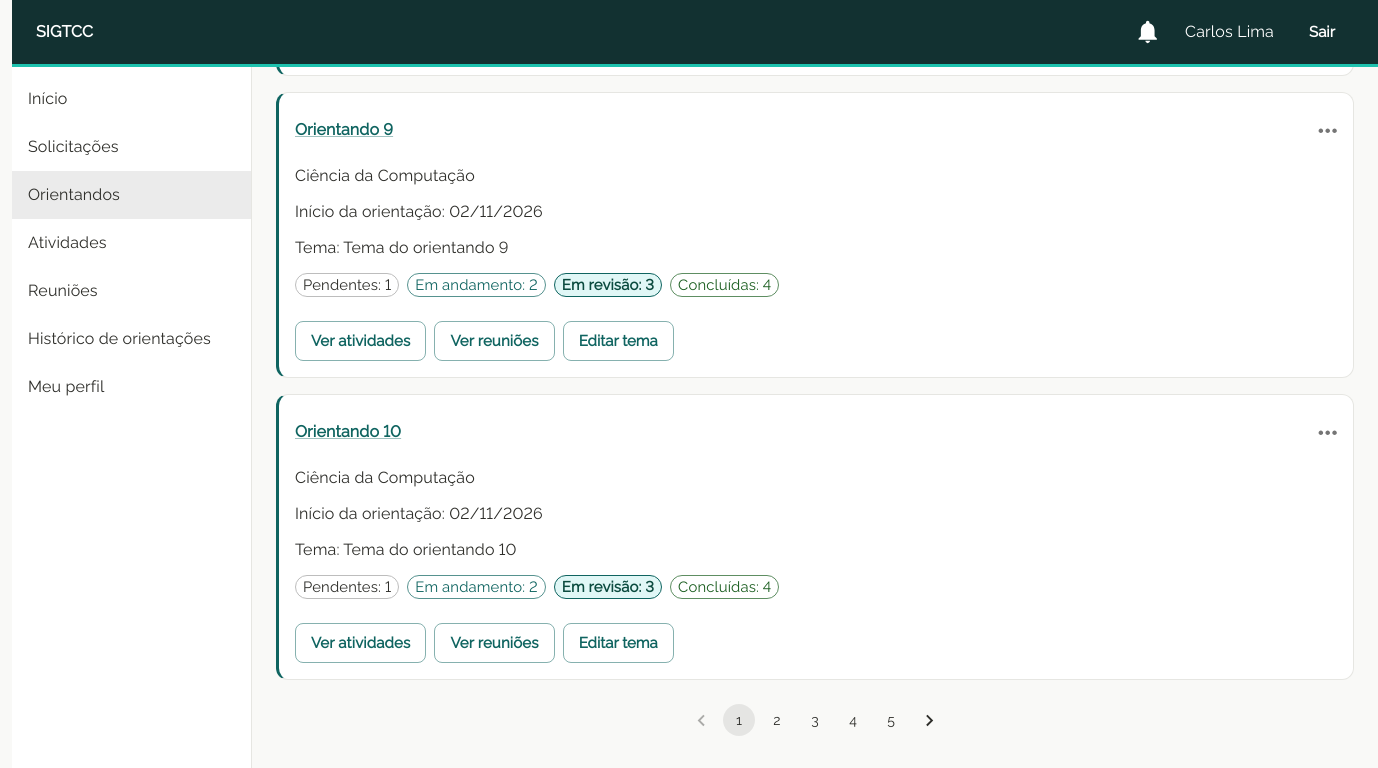
Test: TeacherAdviseesPage: paginação com a página na URL › muda de página, guarda a página na URL e pede o deslocamento certo
The image size is (1378, 768).
(page scrolled)
Click the button "5".
click(891, 720)  # box [875,704,907,736]
(page scrolled)
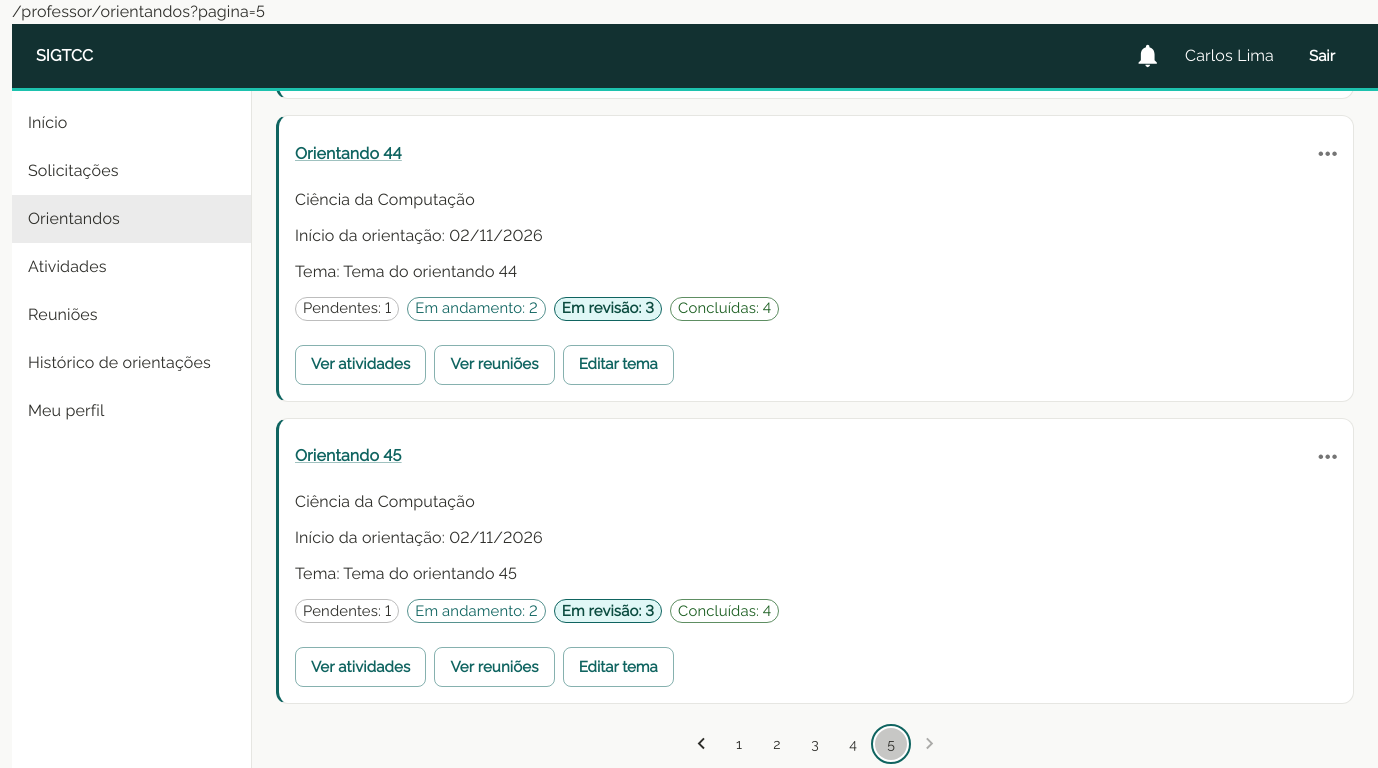
Check: the text with test id "location" reads "/professor/orientandos?pagina=5", box [12,2,265,21]
